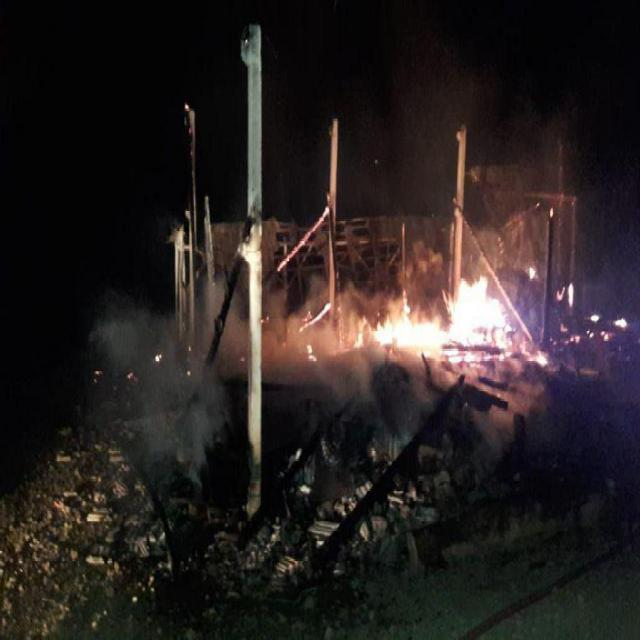Fire: (356, 270, 510, 361), (526, 343, 550, 367)
